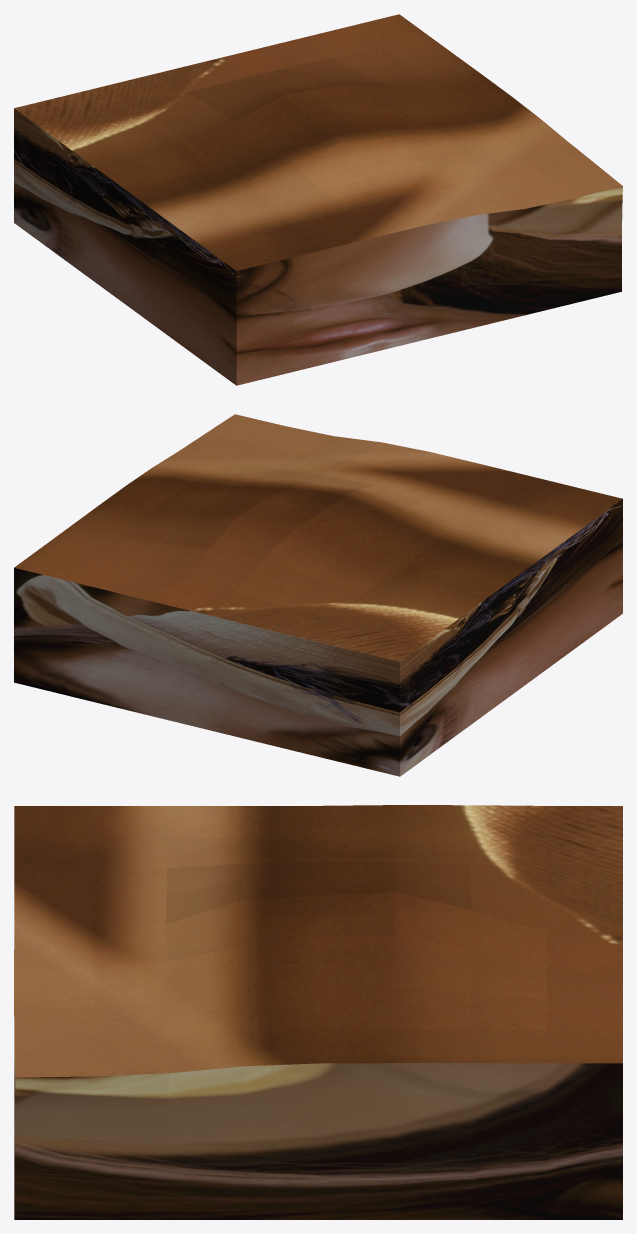
Rendered from SimpleCube-1.obj.
3 renders of one model, top to bottom at view 1: azimuth 30°, elevation 25°; view 2: azimuth 150°, elevation 25°; view 3: azimuth 270°, elevation 25°, orthographic. The views are drawn at different scales.
Visible parts, largest first — view 1: Cube; view 2: Cube; view 3: Cube.
Boxes of the visible parts, x1=… form: Cube: x1=14, y1=14, x2=622, y2=385; Cube: x1=14, y1=414, x2=622, y2=776; Cube: x1=14, y1=805, x2=622, y2=1219.
Bounding box in the file's own units: 2.02 × 0.708 × 2.
1 material, 1 textured.
